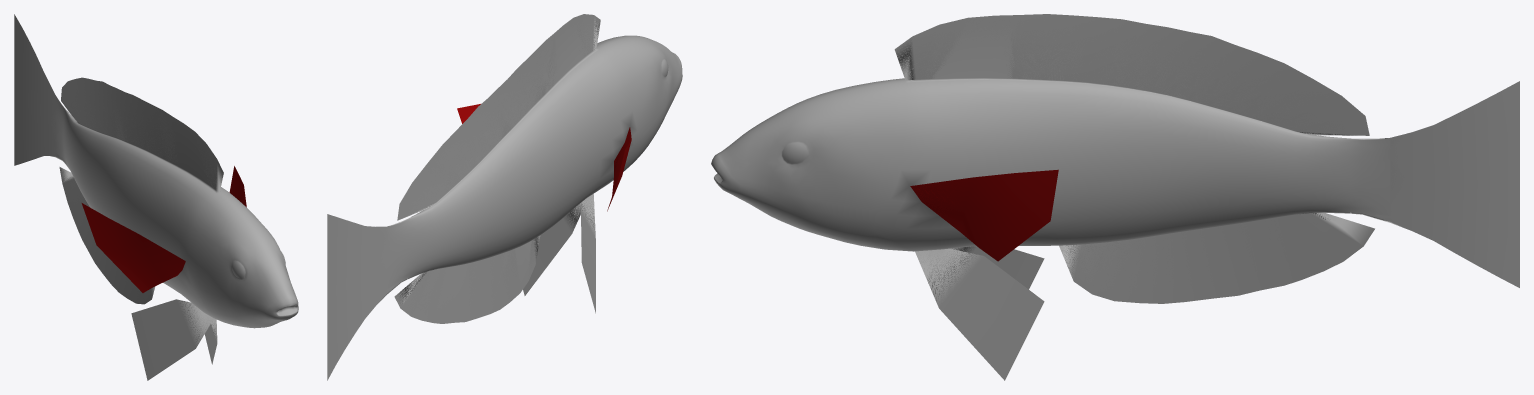
Rendered from Labridae_A.fbx.
3 renders of one model, left to right at view 1: azimuth 30°, elevation 25°; view 2: azimuth 150°, elevation 25°; view 3: azimuth 270°, elevation 25°, orthographic. The views are drawn at different scales.
Visible parts, largest first — view 1: Labridae_A_LOD0; view 2: Labridae_A_LOD0; view 3: Labridae_A_LOD0.
Boxes of the visible parts, left/top/right/bottom form: Labridae_A_LOD0: left=14, top=14, right=298, bottom=380; Labridae_A_LOD0: left=327, top=14, right=682, bottom=380; Labridae_A_LOD0: left=711, top=14, right=1519, bottom=380.
Size of what is drawn, in the model's own units: 0.3042 by 0.4794 by 1.02.
